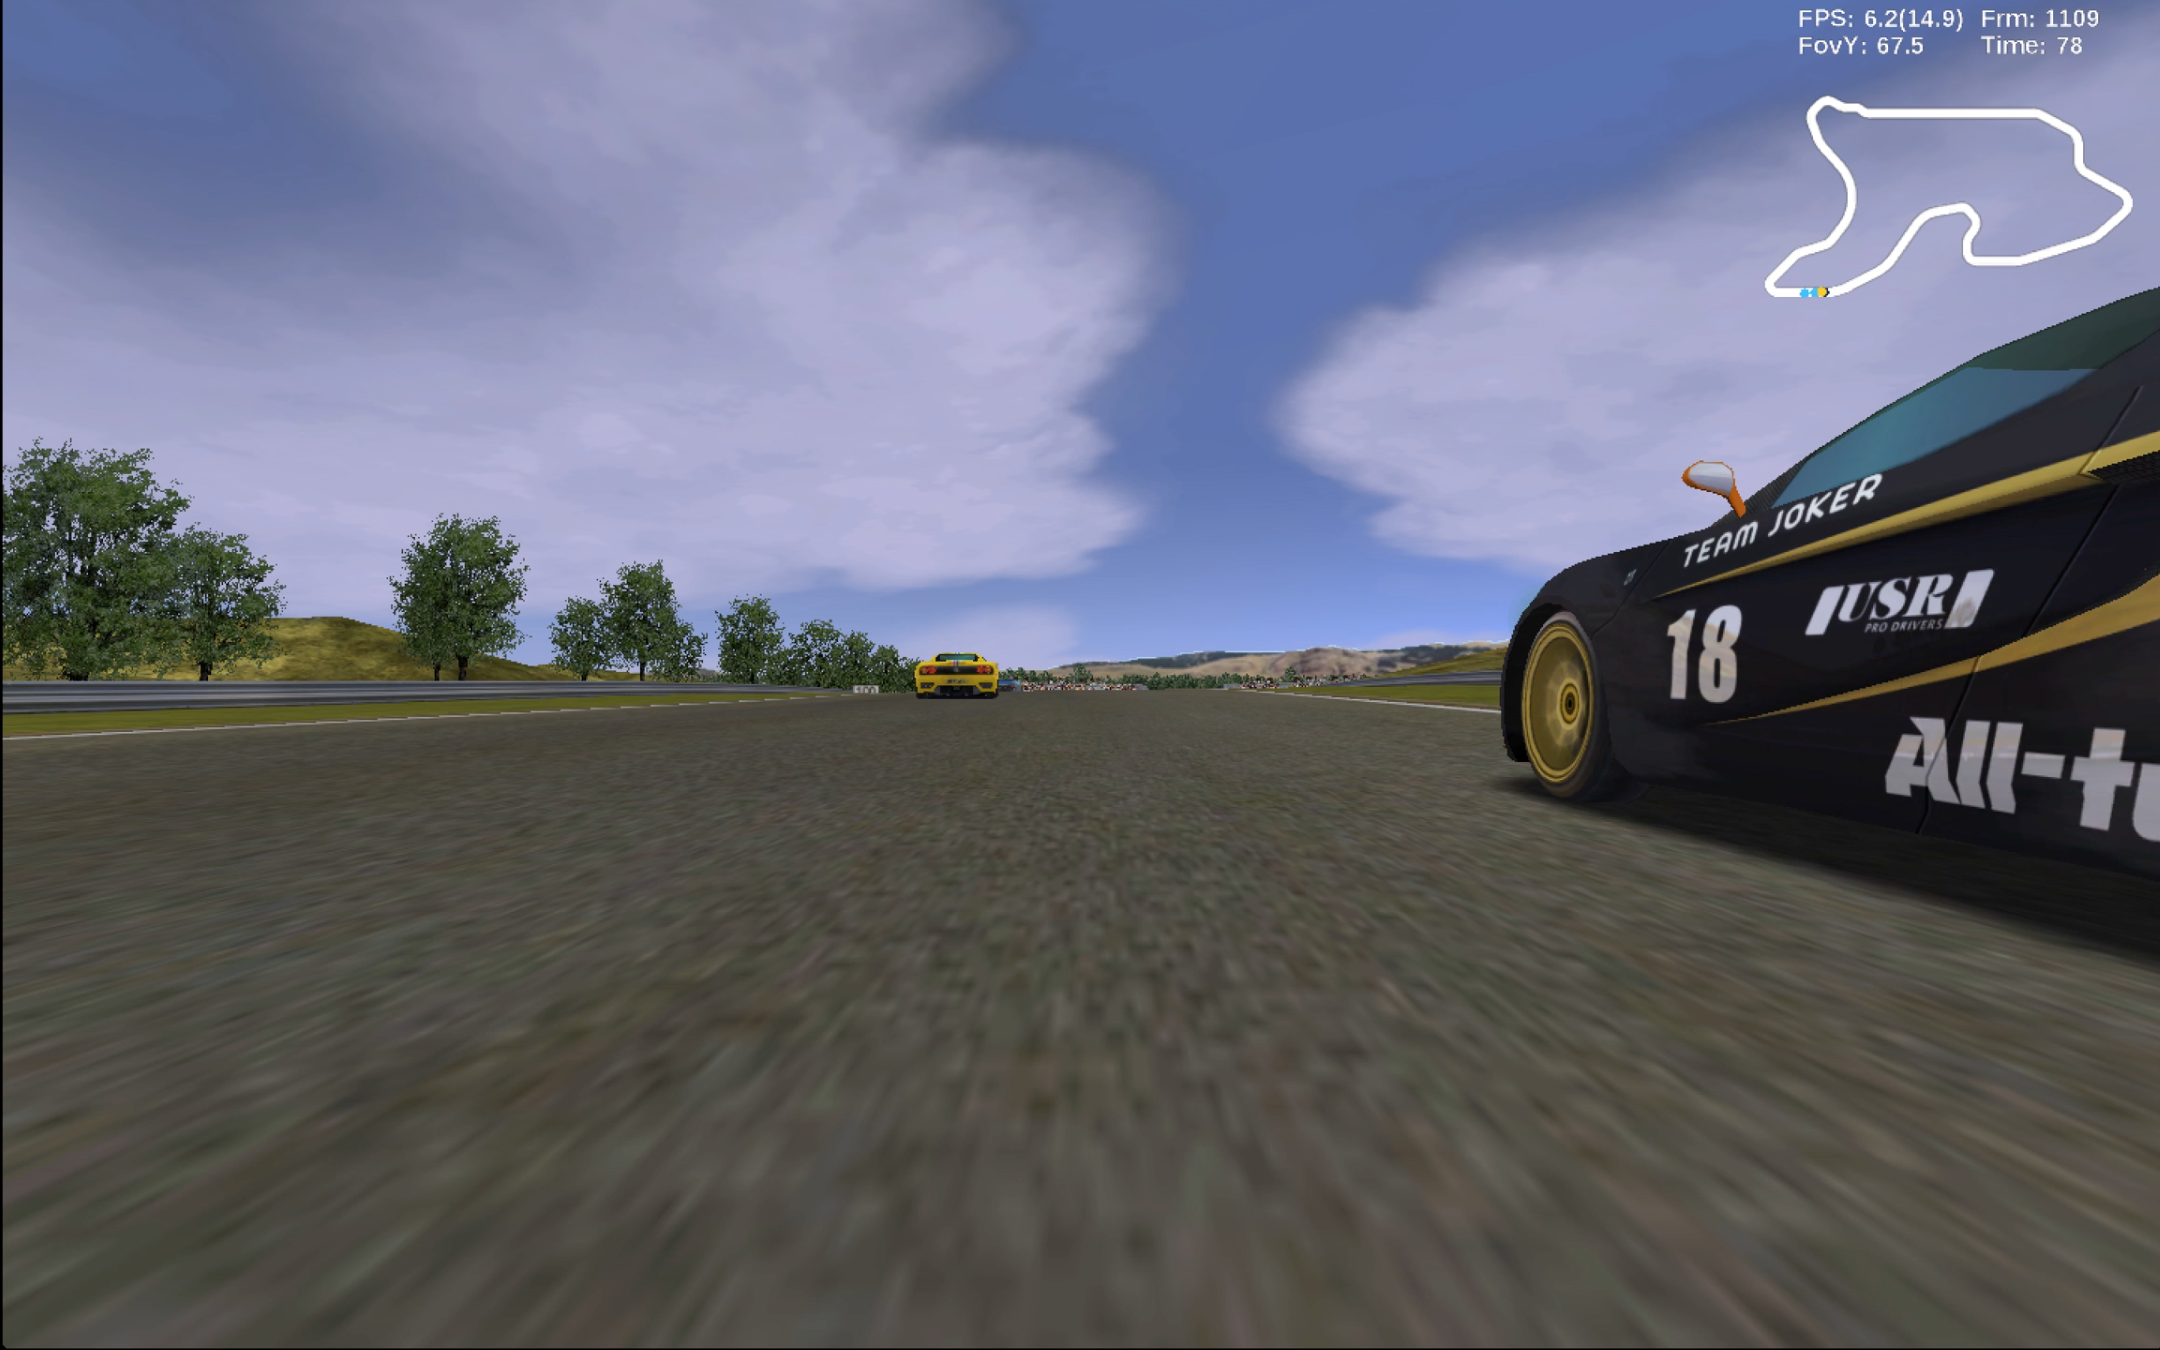Cavallo360: (913, 653, 1000, 700)
Lynx220: (1001, 683, 1023, 697)
Spirit300: (1498, 288, 2160, 888)
